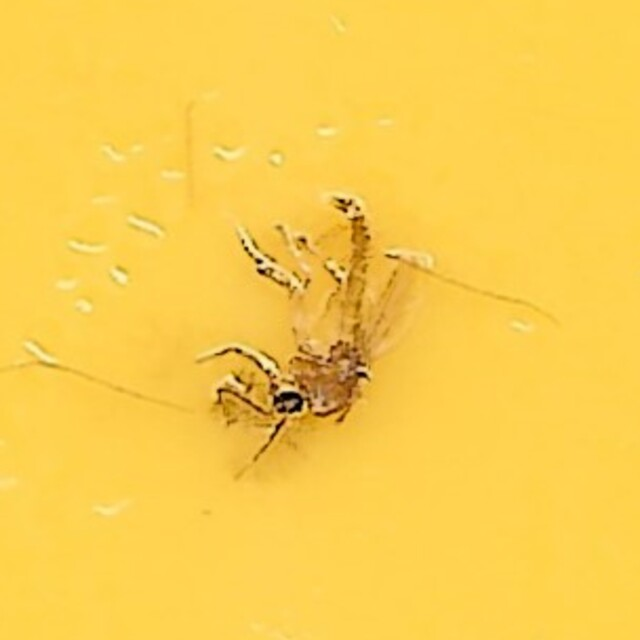Nematocera: (211, 190, 429, 450)
